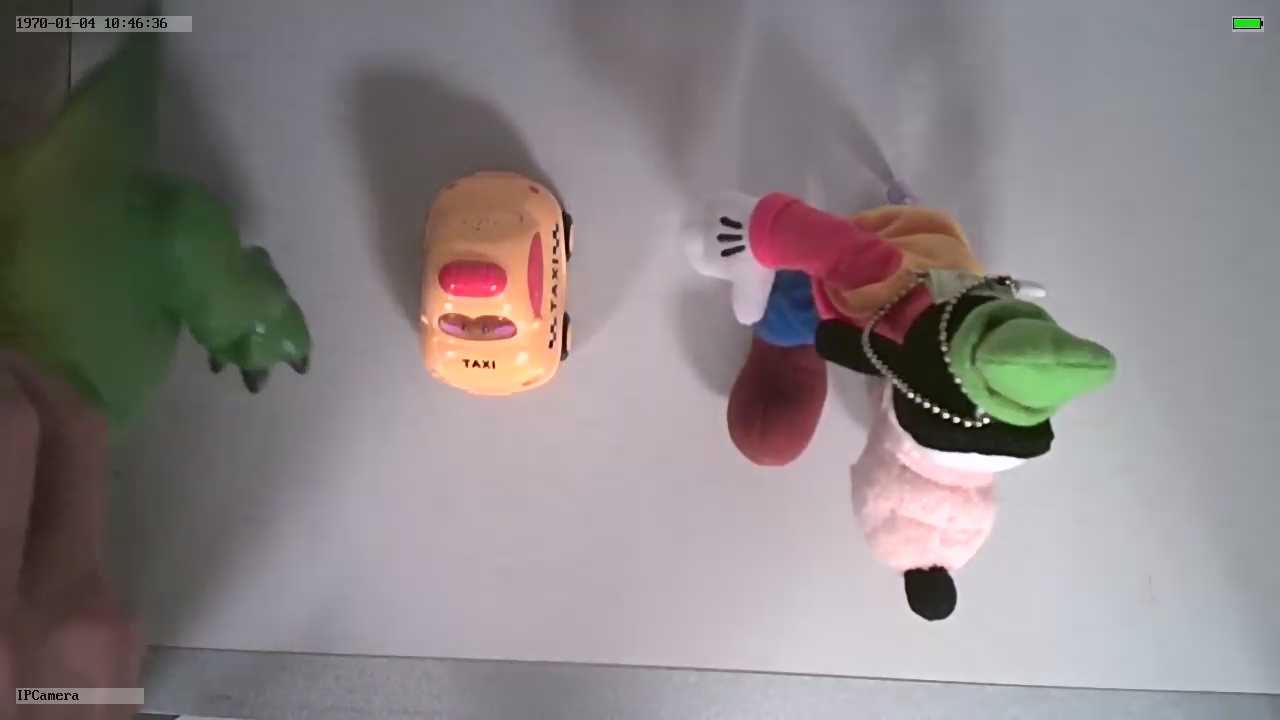goofy: (674, 189, 1124, 634)
